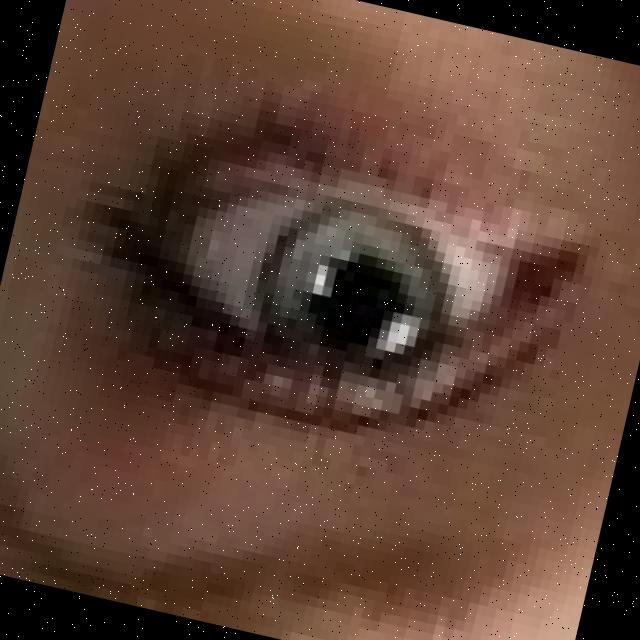Normal: (100, 91, 601, 468)
